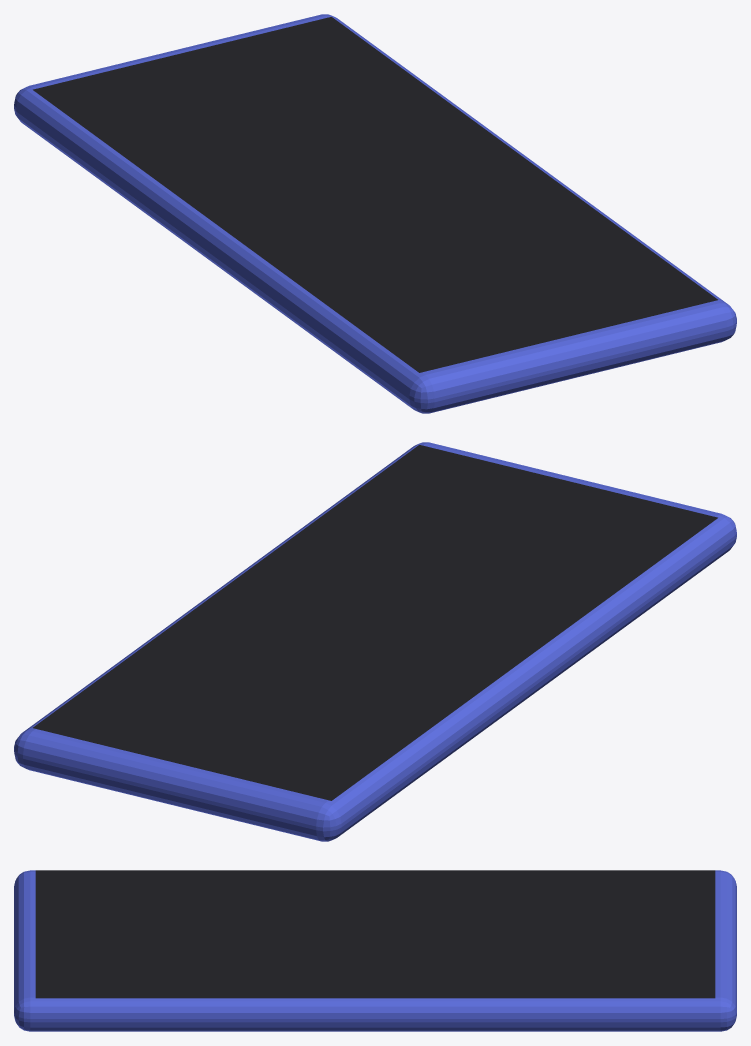
Rendered from oppo-reno-model-292-budget-2022.glb.
3 views of the same model, one above another, from view 1: azimuth 30°, elevation 25°; view 2: azimuth 150°, elevation 25°; view 3: azimuth 270°, elevation 25° (orthographic). The views are drawn at different scales.
Parts seen in each view (by area): view 1: Phone_Screen, Phone_Body; view 2: Phone_Screen, Phone_Body; view 3: Phone_Screen, Phone_Body.
Boxes of the visible parts, bbox=[...] form: Phone_Screen: bbox=[33, 17, 717, 372]; Phone_Body: bbox=[14, 14, 736, 413]; Phone_Screen: bbox=[33, 445, 717, 800]; Phone_Body: bbox=[14, 442, 736, 841]; Phone_Screen: bbox=[35, 870, 715, 998]; Phone_Body: bbox=[14, 870, 736, 1031].
Size of the model in its own units: 0.0757 by 0.0084 by 0.166.
